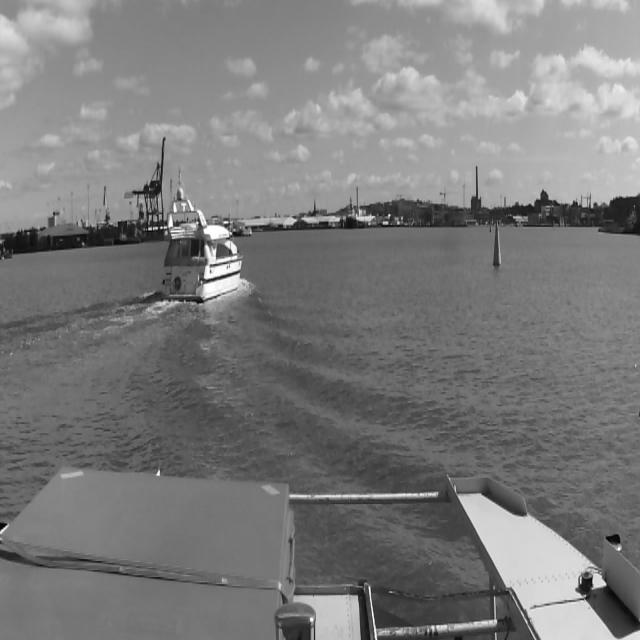buoy: (493, 220, 501, 266)
ship: (158, 188, 242, 302)
